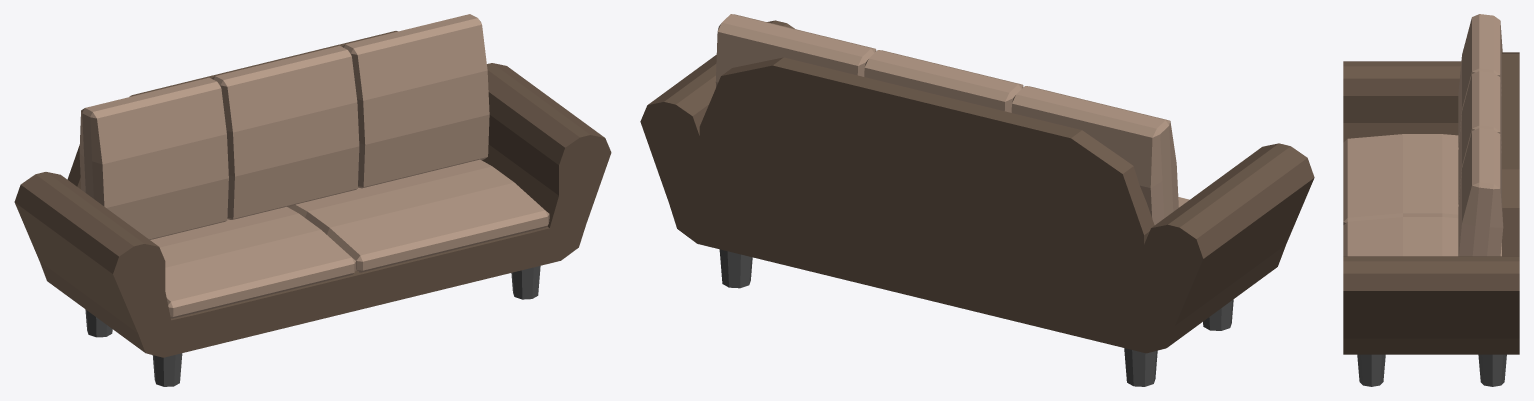
The model's file is Sofa_1.fbx.
The picture shows the model from 3 angles, left to right: view 1: azimuth 30°, elevation 25°; view 2: azimuth 150°, elevation 25°; view 3: azimuth 270°, elevation 25°; orthographic projection. The views are drawn at different scales.
Parts seen in each view (by area): view 1: Sofa_1; view 2: Sofa_1; view 3: Sofa_1.
Part boxes in pixels (bbox=[...]): Sofa_1: bbox=[14, 14, 611, 386]; Sofa_1: bbox=[640, 14, 1314, 386]; Sofa_1: bbox=[1343, 14, 1519, 386].
Bounding box in the file's own units: 360 × 123 × 158.
